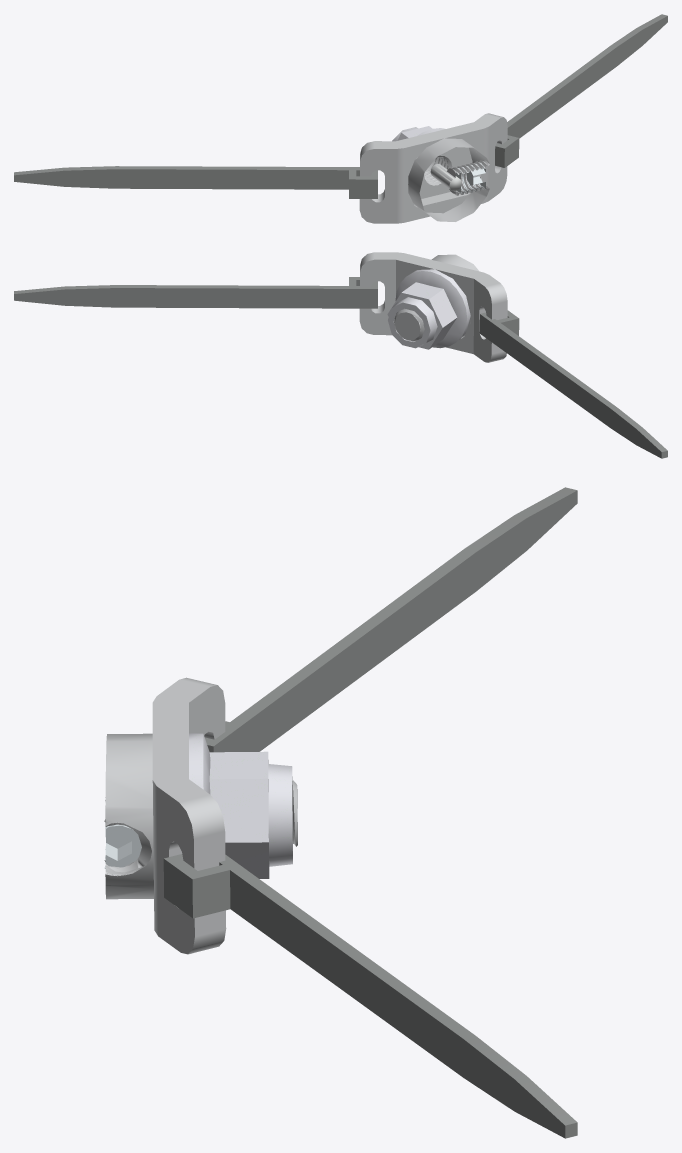
The model's file is rotary_tool_implement.glb.
The picture shows the model from 3 angles, top to bottom: view 1: azimuth 30°, elevation 25°; view 2: azimuth 150°, elevation 25°; view 3: azimuth 270°, elevation 25°; orthographic projection. The views are drawn at different scales.
Parts seen in each view (by area): view 1: mesh; view 2: mesh; view 3: mesh.
Part boxes in pixels (box(x1,y1,x2,y2)): mesh: box(14, 14, 667, 223); mesh: box(14, 252, 667, 458); mesh: box(104, 487, 577, 1138).
Size of the model in its own units: 0.1048 by 0.0116 by 0.0329.
1 material, 1 textured.
